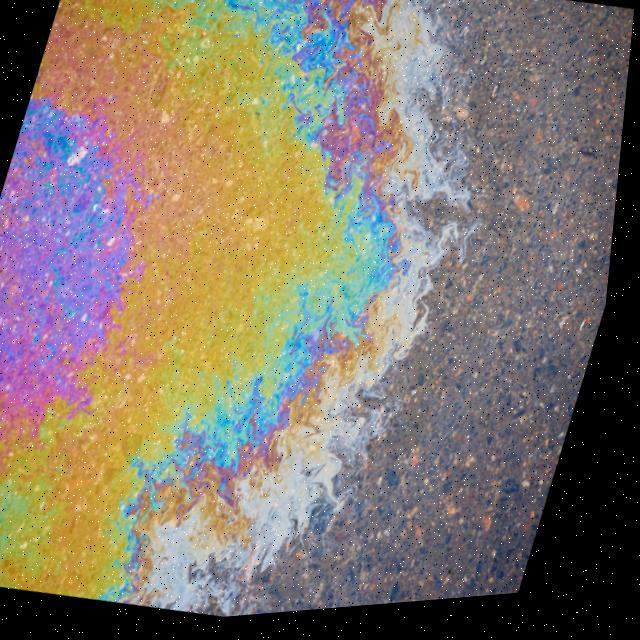corrosion: (0, 45, 516, 612)
